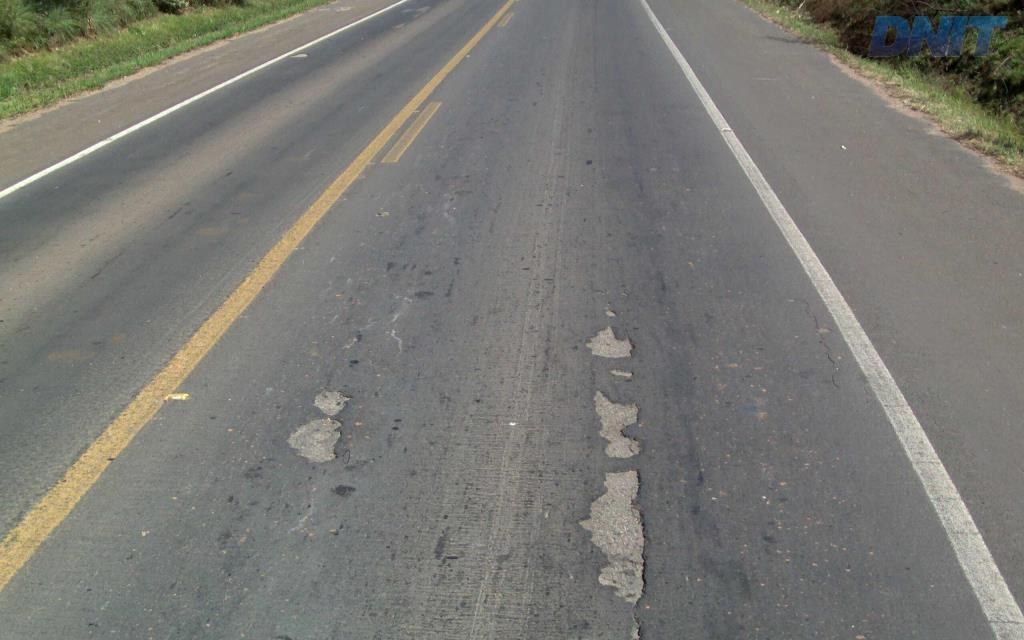pothole: (568, 384, 656, 607), (273, 381, 357, 473), (579, 321, 643, 361), (623, 613, 651, 638), (603, 366, 639, 380), (599, 300, 622, 318)
